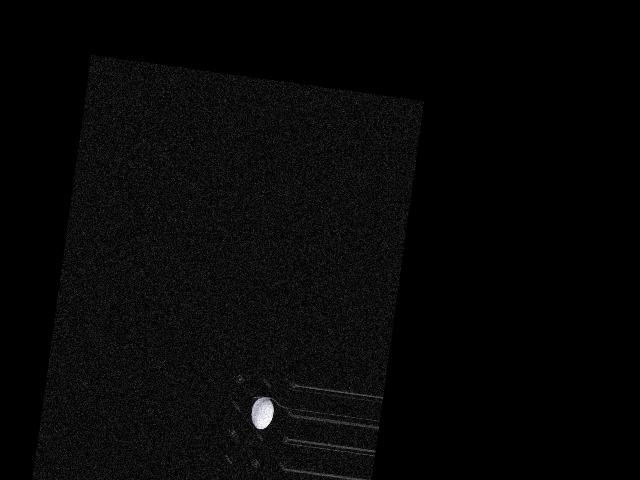egg: (249, 395, 276, 430)
